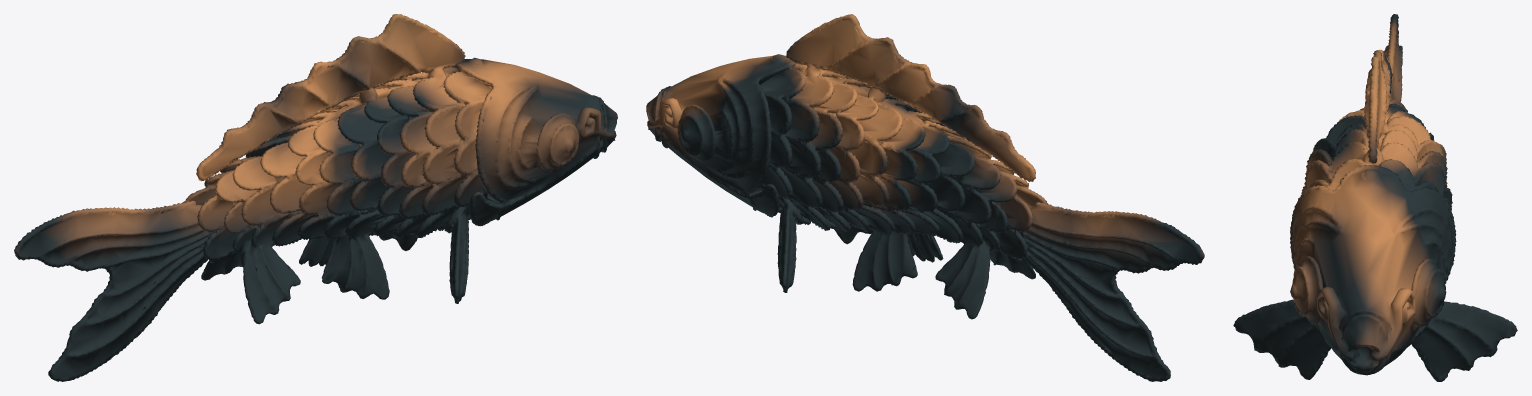
The model's file is ornamental-sumi.glb.
3 views of the same model, side by side, from view 1: azimuth 30°, elevation 25°; view 2: azimuth 150°, elevation 25°; view 3: azimuth 270°, elevation 25° (orthographic). The views are drawn at different scales.
Parts seen in each view (by area): view 1: Ornamental koi / sumi; view 2: Ornamental koi / sumi; view 3: Ornamental koi / sumi.
Part boxes in pixels (x1=…): Ornamental koi / sumi: x1=14, y1=14, x2=617, y2=381; Ornamental koi / sumi: x1=646, y1=14, x2=1204, y2=381; Ornamental koi / sumi: x1=1233, y1=14, x2=1517, y2=381.
Size of the model in its own units: 2.85 by 1.36 by 1.05.
